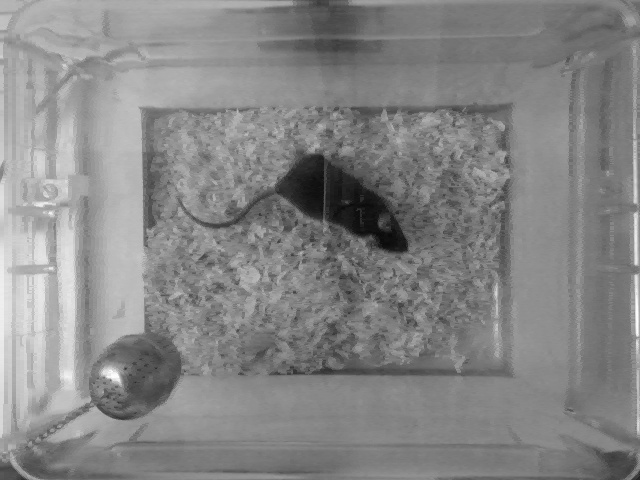mice: (165, 154, 420, 256)
